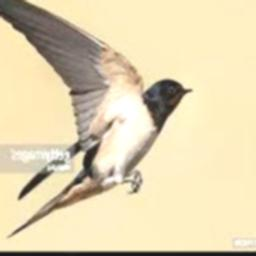Swallow: (0, 0, 195, 239)
